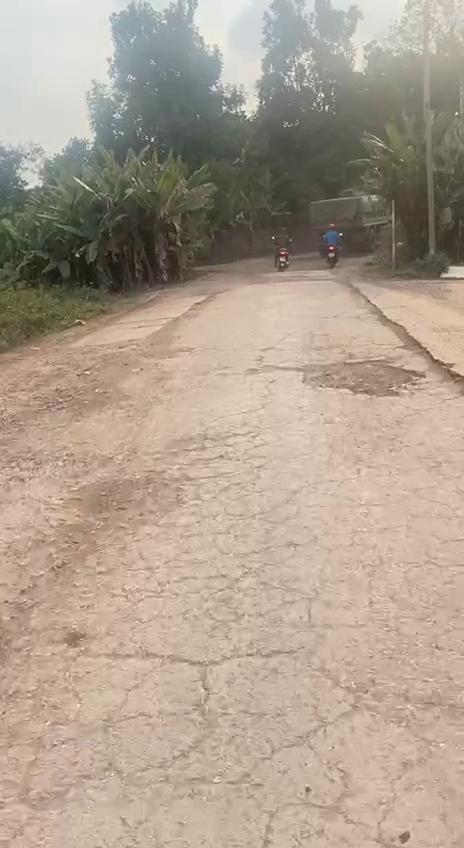pothole: (300, 357, 425, 397)
